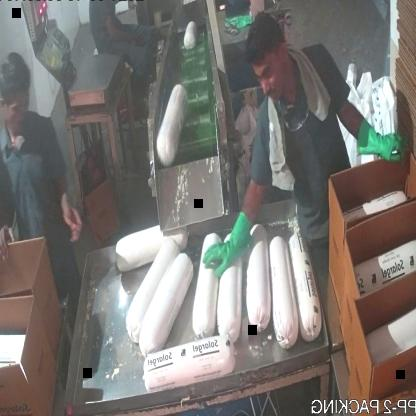glove: (197, 198, 264, 289), (356, 122, 408, 177)
no_glove: (50, 160, 83, 247), (101, 11, 143, 48), (0, 207, 24, 268)
